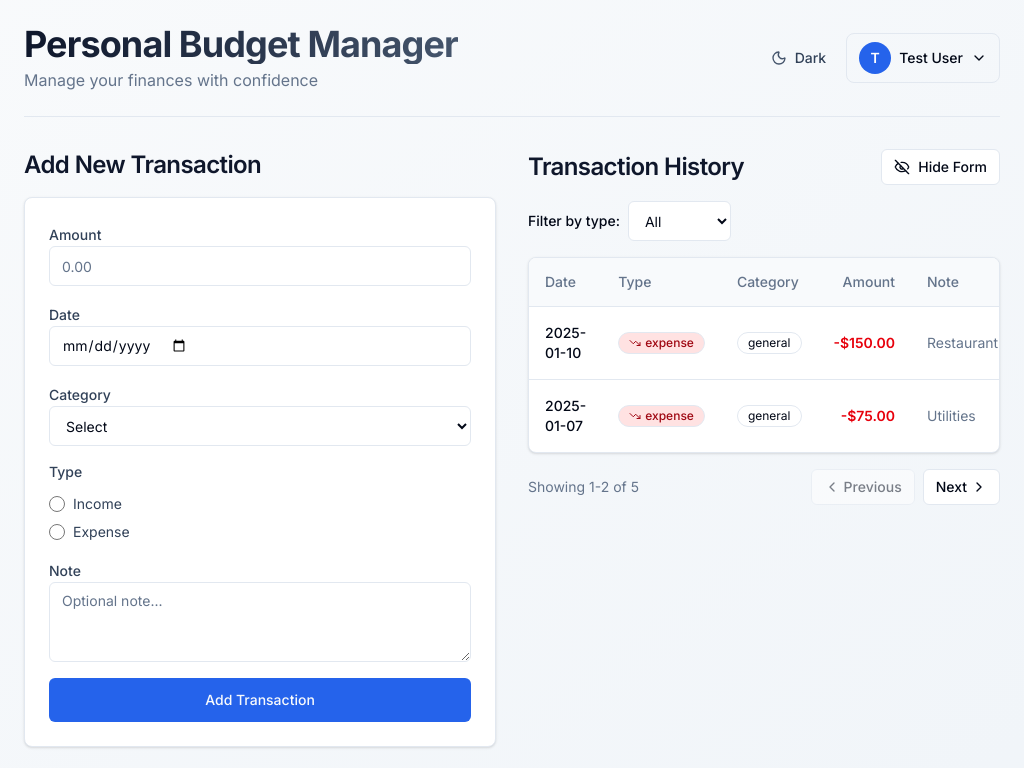
TransactionManager › Authenticated state › pagination works in integrated view
Expected: the text "Showing 1-2 of 5" is shown, [528, 476, 639, 496]
Expected: the text "Restaurant" is shown, [911, 306, 999, 379]
# Navigate to next page
Click the button "Next": coordinates (961, 486) [923, 468, 1000, 504]
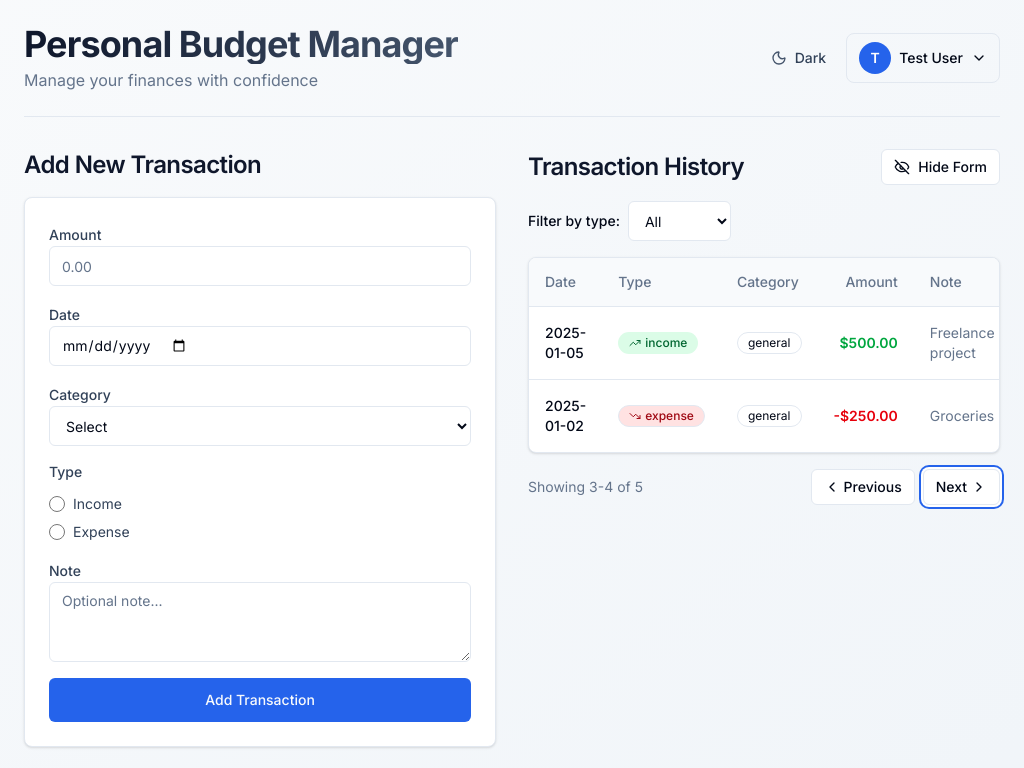
Expected: the text "Showing 3-4 of 5" is shown, [528, 476, 643, 496]
Expected: the text "Freelance project" is shown, [914, 306, 999, 379]
Expected: the text "Utilities" is gone
